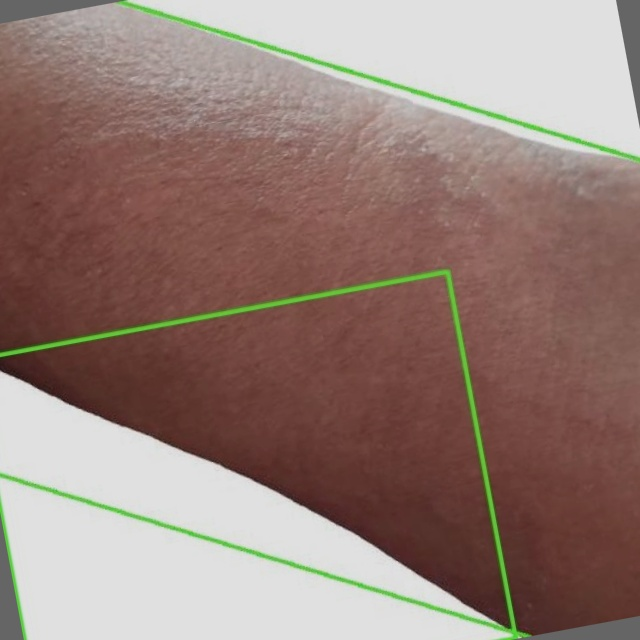Tinea Corporis: (0, 45, 639, 594), (0, 271, 516, 639)
